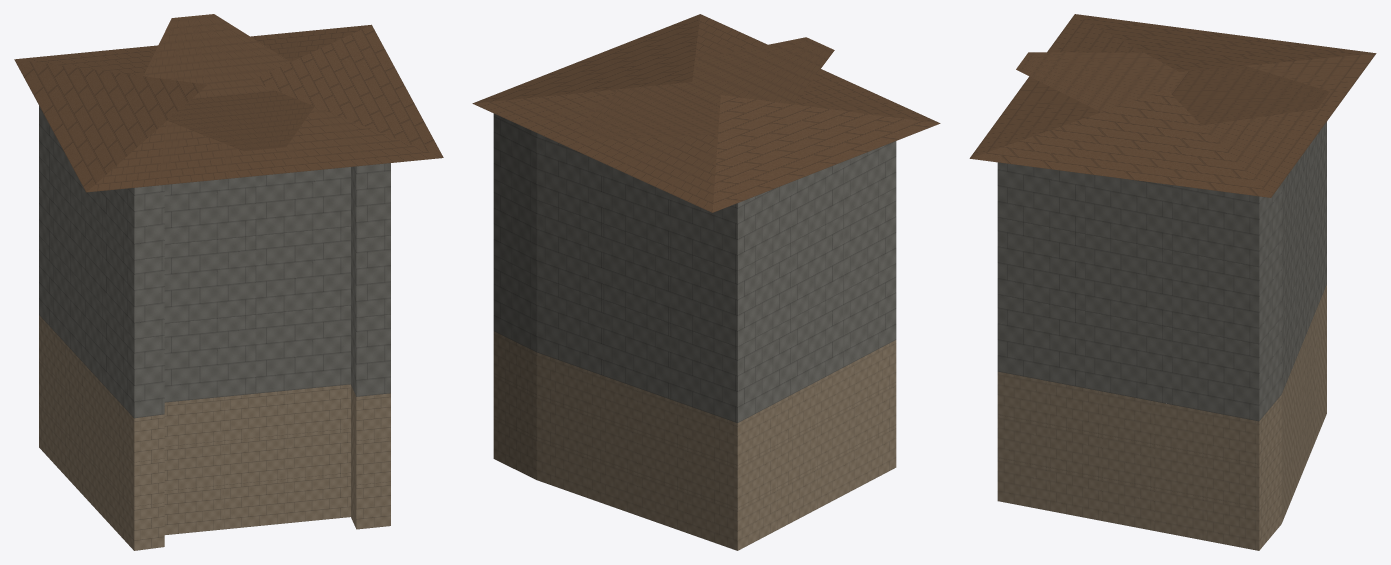
Rendered from bld_c31_-40_468.gltf.
3 views of the same model, side by side, from view 1: azimuth 30°, elevation 25°; view 2: azimuth 150°, elevation 25°; view 3: azimuth 270°, elevation 25° (orthographic). The views are drawn at different scales.
Visible parts, largest first — view 1: bld_c31_-40_468; view 2: bld_c31_-40_468; view 3: bld_c31_-40_468.
Part boxes in pixels (x1=…): bld_c31_-40_468: x1=14, y1=14, x2=443, y2=550; bld_c31_-40_468: x1=472, y1=14, x2=940, y2=550; bld_c31_-40_468: x1=969, y1=14, x2=1376, y2=550.
Bounding box in the file's own units: 15.54 × 15.2 × 14.53.
3 materials, 3 textured.
